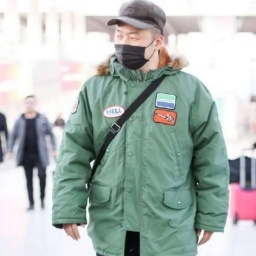correctlyWear: (113, 27, 163, 71)
noWear: (24, 99, 37, 113)
